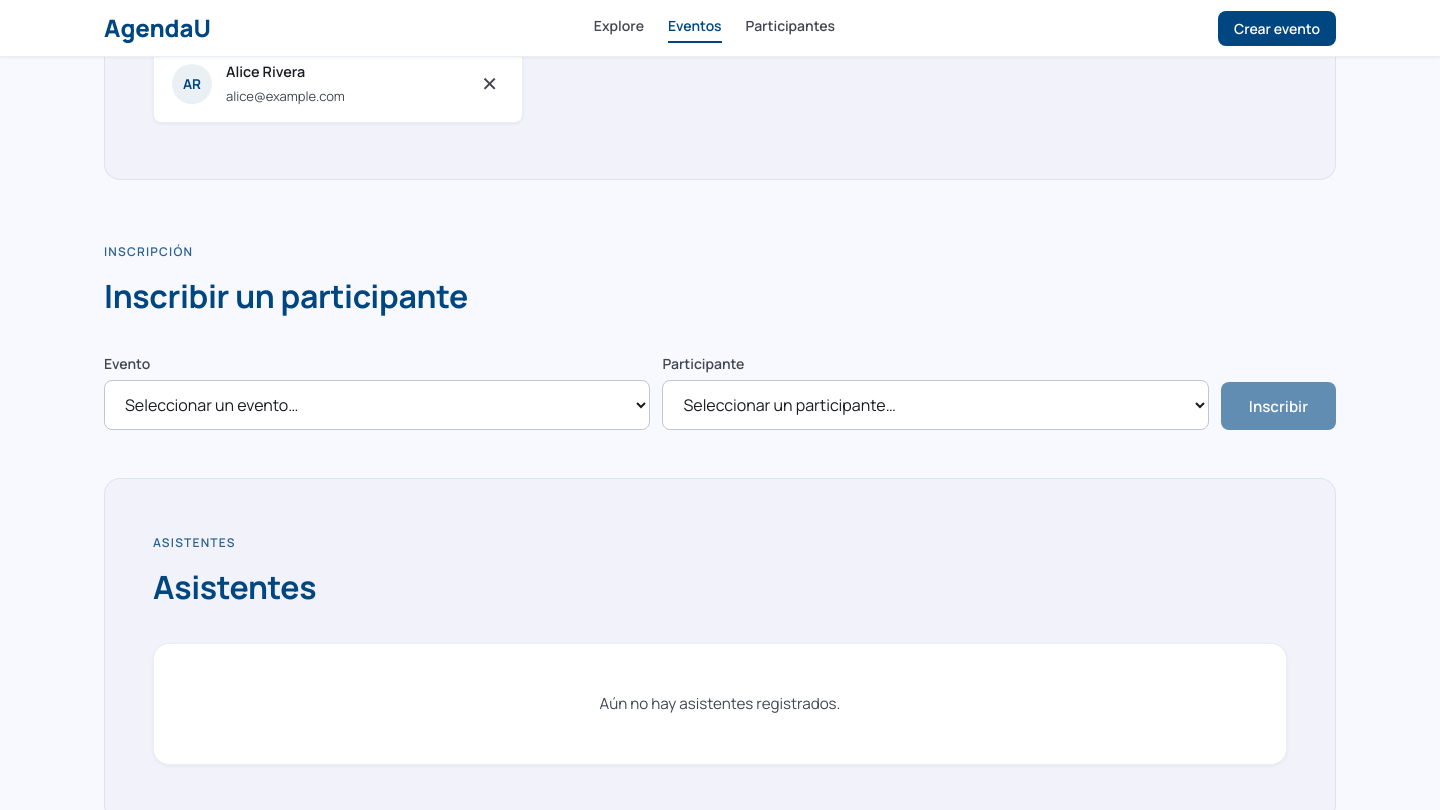
it: App › refreshes the attendee list after a successful enrollment
(page scrolled)
Note: Select event and participant in enrollment section
Select "Workshop" in the dropdown labelled "Evento". click: (377,405)
box: [104,380,650,430]
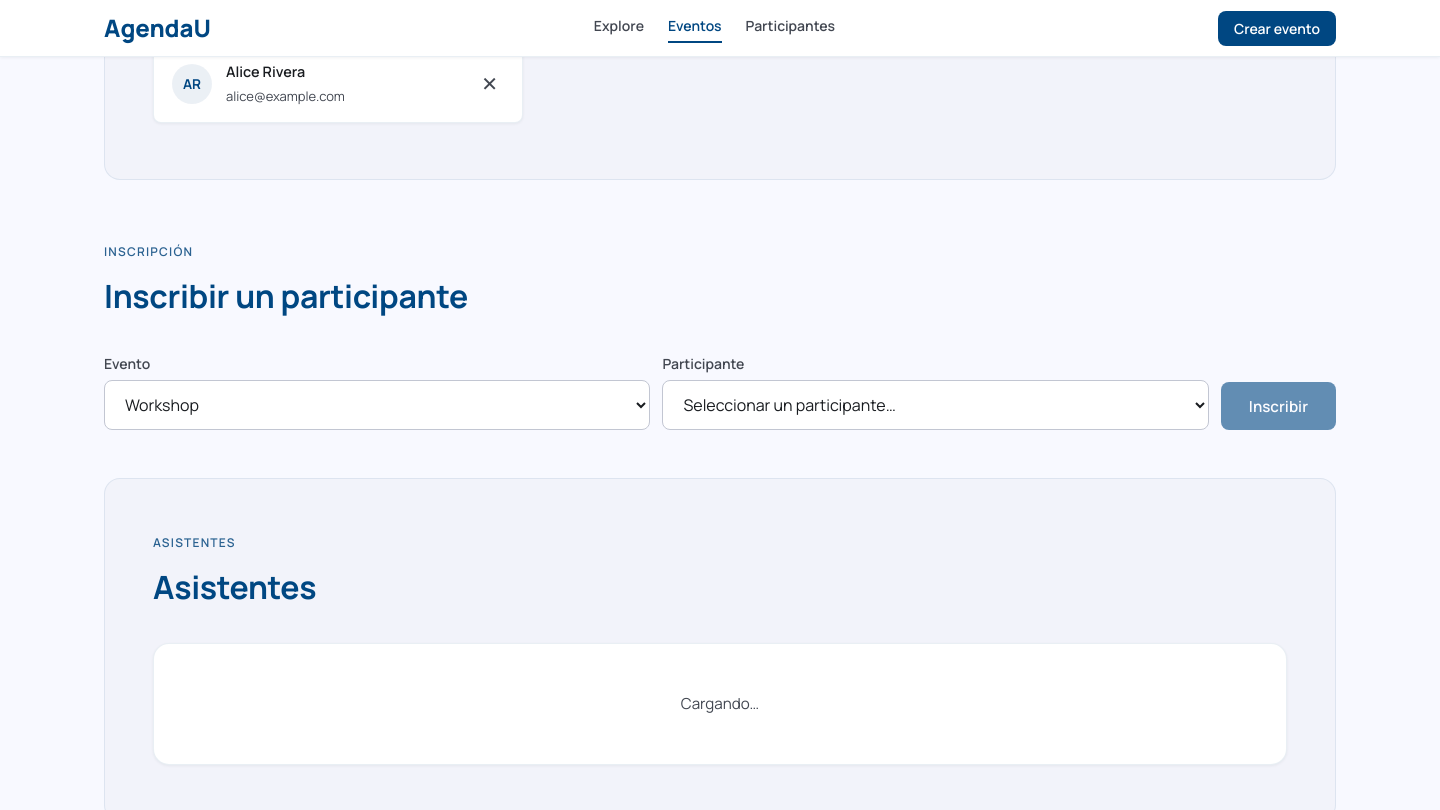
Select "Alice Rivera" in the dropdown labelled "Participante". click: (936,405)
box: [662,380,1209,430]
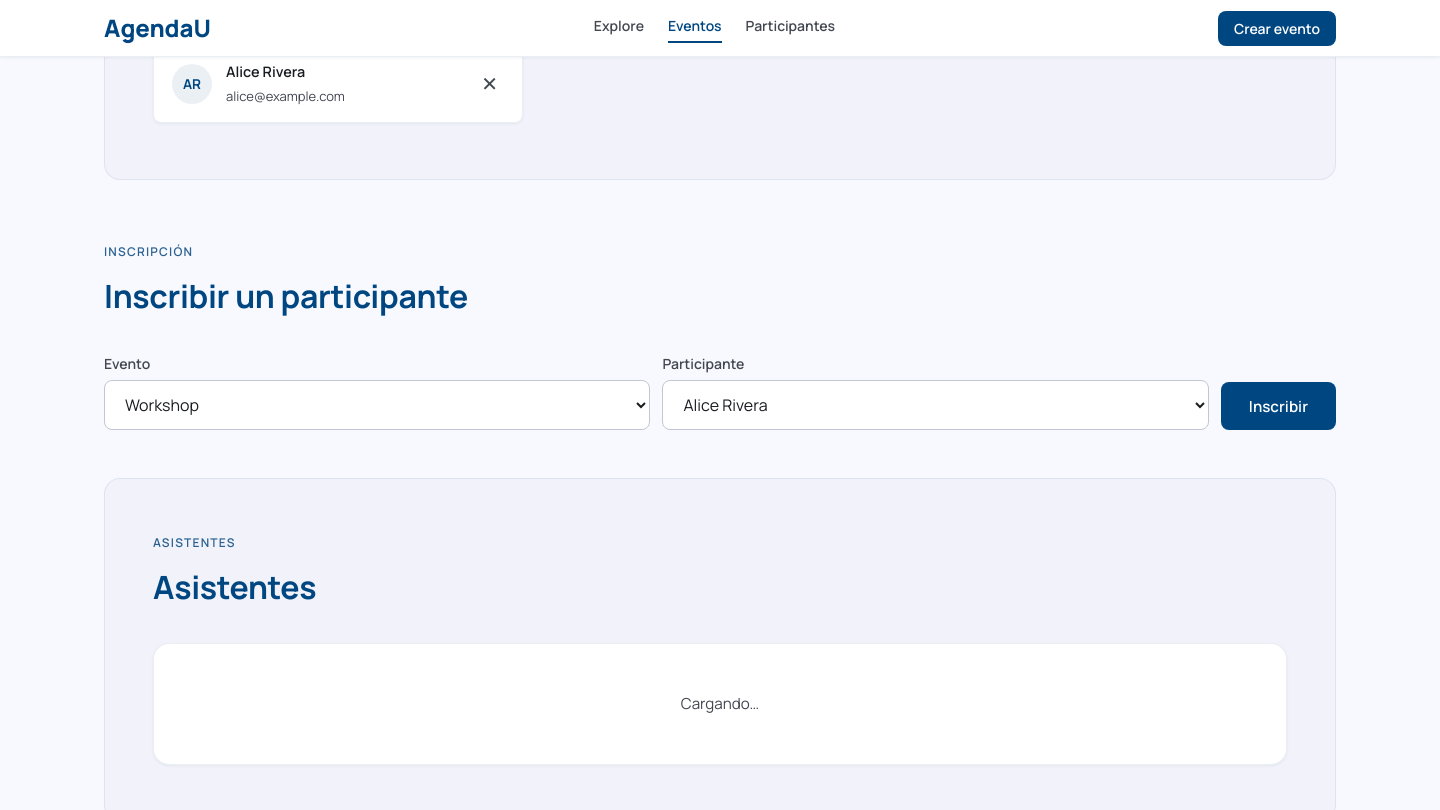
Click the button "Inscribir". click: (1278,406)
box: [1221,382,1336,430]
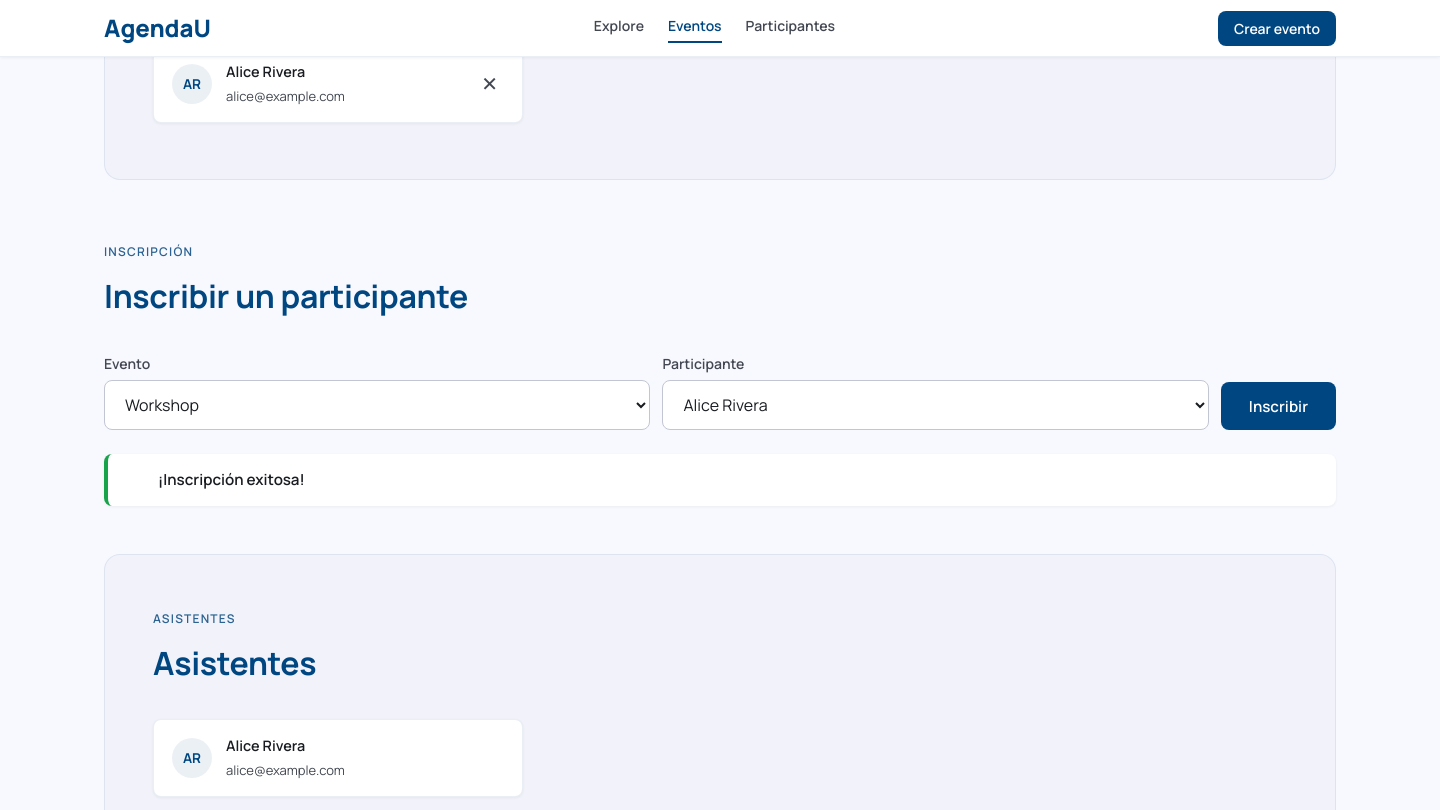
expect the text "¡Inscripción exitosa!" is shown: met, box [104,454,1336,506]
